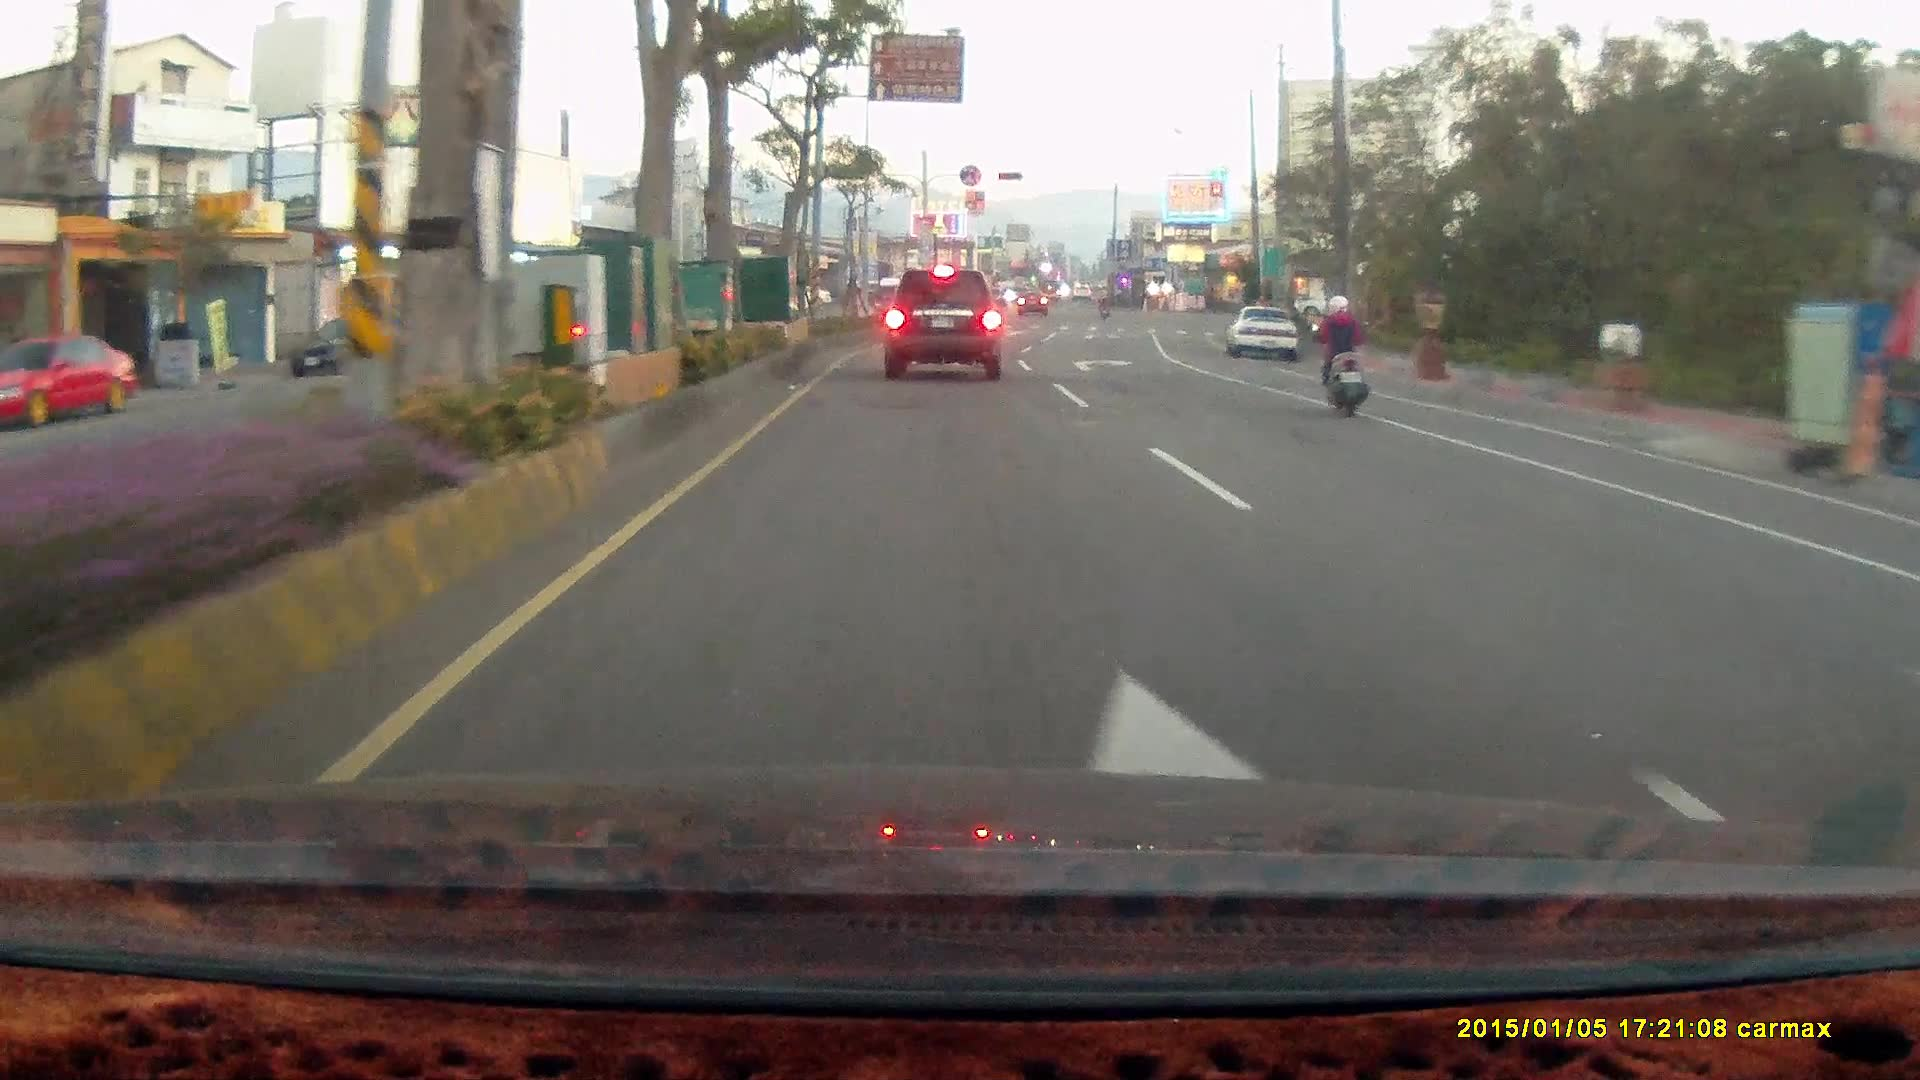rider: (1310, 293, 1370, 419)
vehicle: (882, 264, 1001, 381), (1, 333, 138, 432), (1896, 493, 1920, 836), (1883, 528, 1920, 690), (1224, 304, 1298, 363), (1230, 307, 1302, 362), (1292, 283, 1364, 320)
